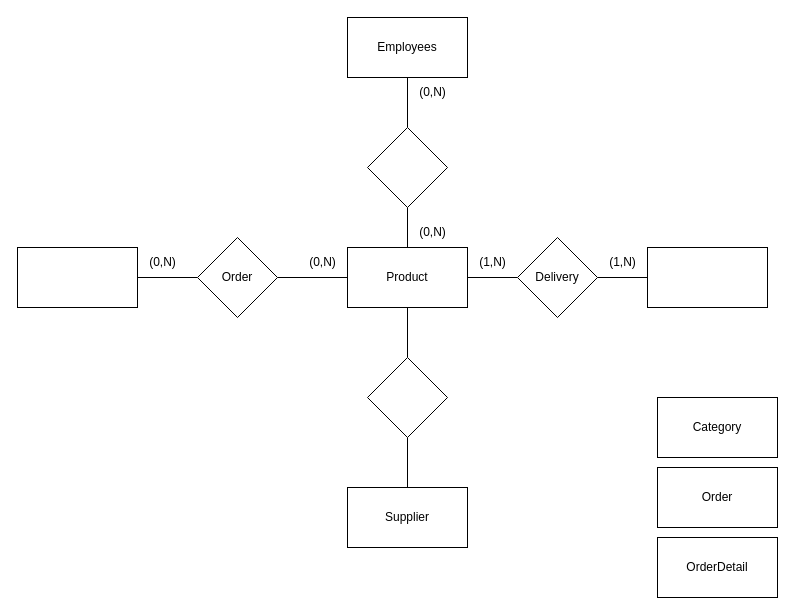
Some shapes in this 795 by 615 pixel diagram are drawn without their labels. The box of each missing label's shape, as (x1, y1, x2, y2) in pixels:
Customers: (16, 246, 138, 308)
Sell: (366, 126, 448, 208)
Shipper: (646, 246, 768, 308)
supply: (366, 356, 448, 438)
